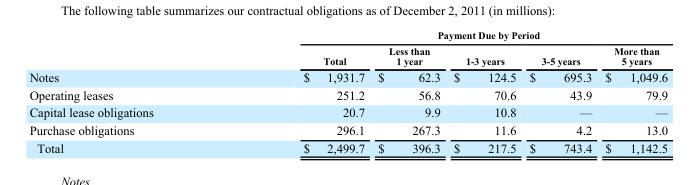table: (28, 28, 667, 154)
table column: (28, 28, 227, 154), (227, 28, 370, 154), (370, 28, 446, 154), (446, 28, 522, 154), (522, 28, 597, 154), (597, 28, 667, 154)
table column header: (28, 28, 667, 67)
table row: (28, 42, 667, 67), (28, 67, 667, 85), (28, 85, 667, 103), (28, 120, 667, 138), (28, 103, 667, 120), (28, 138, 667, 154), (28, 28, 667, 42)
table spanning cell: (227, 28, 667, 42)
